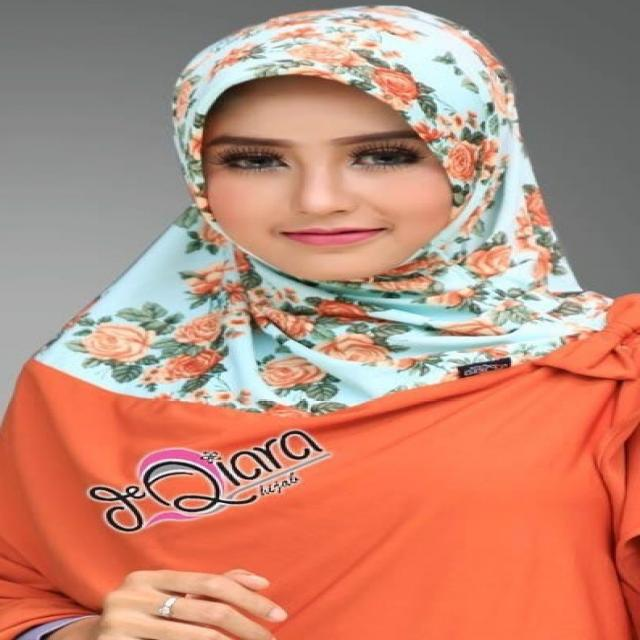head: (167, 7, 525, 294)
